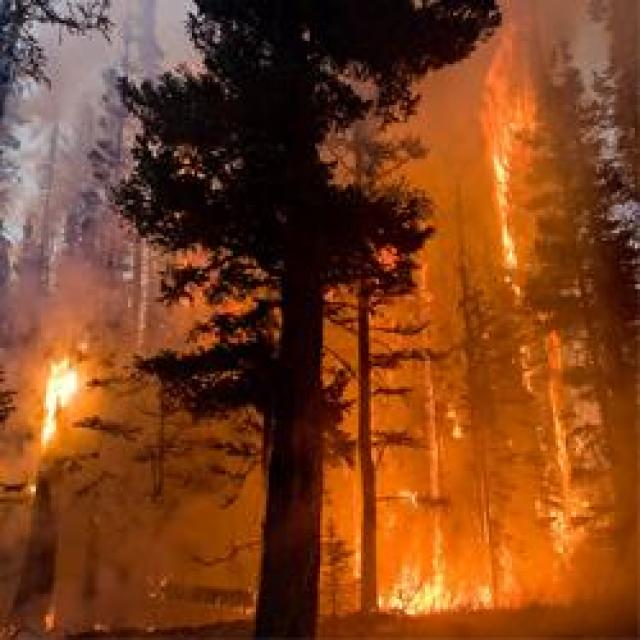fire: (486, 103, 536, 276), (390, 570, 512, 620), (40, 360, 86, 462)
smoke: (7, 220, 102, 364)
